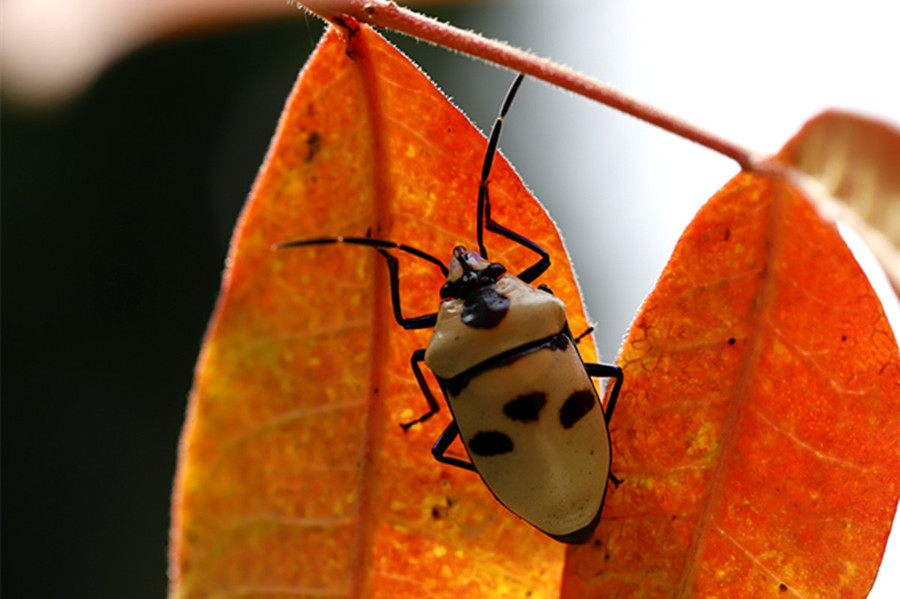chunchong: (332, 200, 649, 551)
